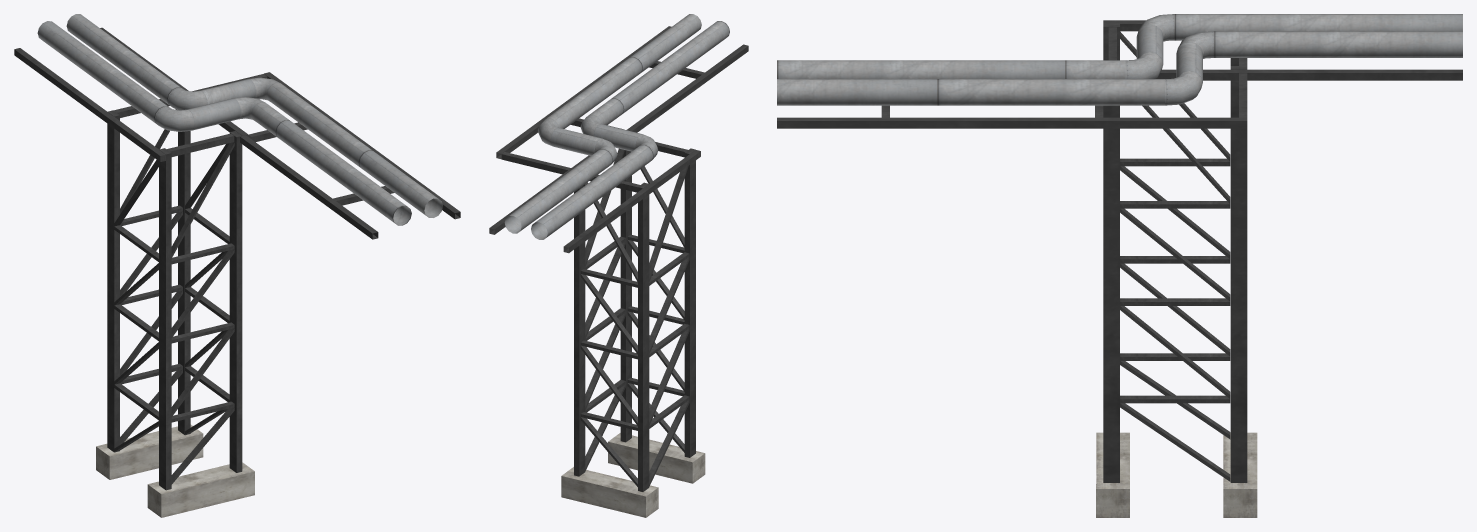
Rendered from plant-building51-2.glb.
The picture shows the model from 3 angles, left to right: view 1: azimuth 30°, elevation 25°; view 2: azimuth 150°, elevation 25°; view 3: azimuth 270°, elevation 25°; orthographic projection. The views are drawn at different scales.
Parts seen in each view (by area): view 1: Object8935895; view 2: Object8935895; view 3: Object8935895.
Part boxes in pixels (left/top/right/bottom): Object8935895: left=14, top=14, right=460, bottom=517; Object8935895: left=489, top=14, right=748, bottom=517; Object8935895: left=777, top=14, right=1462, bottom=517.
Bounding box in the file's own units: 4.94 × 10.56 × 14.05.
Materials: 1 (1 with a texture image).
